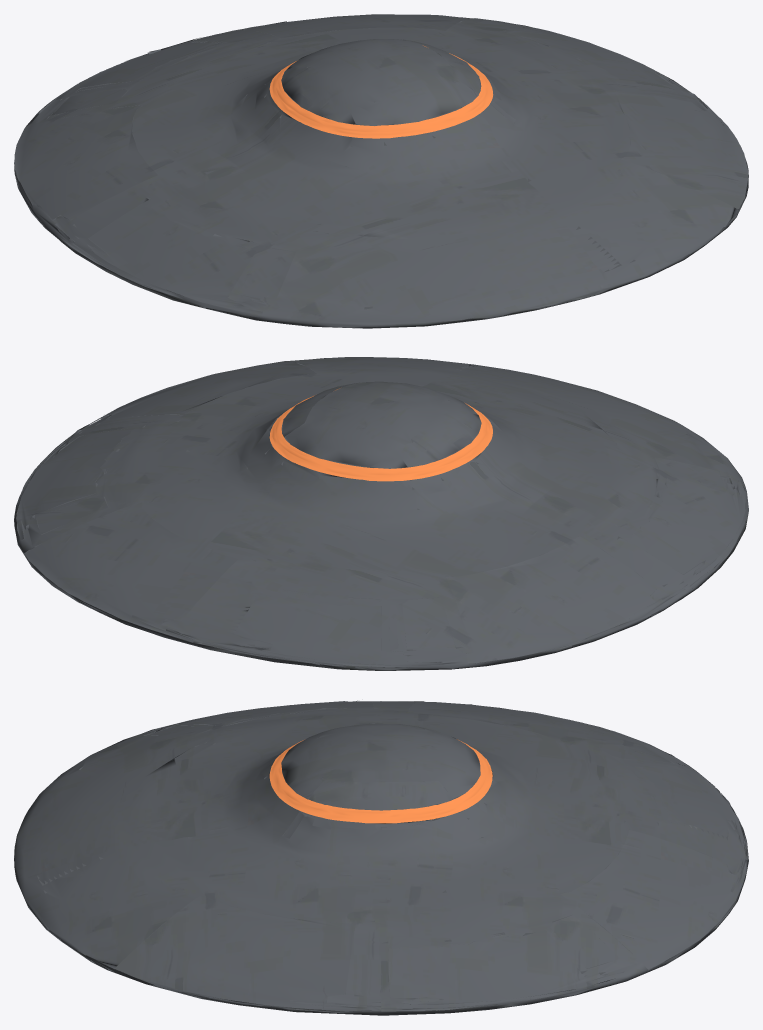
Rendered from ufo.glb.
3 renders of one model, top to bottom at view 1: azimuth 30°, elevation 25°; view 2: azimuth 150°, elevation 25°; view 3: azimuth 270°, elevation 25°, orthographic. The views are drawn at different scales.
Visible parts, largest first — view 1: UFO_UFO Metal_0.001, UFO_UFO Metal_0.002, UFO; view 2: UFO_UFO Metal_0.001, UFO_UFO Metal_0.002, UFO; view 3: UFO_UFO Metal_0.001, UFO_UFO Metal_0.002, UFO.
Part boxes in pixels (bbox=[...]): UFO_UFO Metal_0.001: bbox=[14, 17, 748, 328]; UFO_UFO Metal_0.002: bbox=[14, 14, 748, 314]; UFO: bbox=[47, 22, 718, 309]; UFO_UFO Metal_0.001: bbox=[14, 357, 748, 670]; UFO_UFO Metal_0.002: bbox=[16, 361, 745, 665]; UFO: bbox=[26, 365, 733, 661]; UFO_UFO Metal_0.001: bbox=[14, 701, 748, 1015]; UFO_UFO Metal_0.002: bbox=[14, 700, 747, 1012]; UFO: bbox=[37, 708, 745, 1010].
Size of the model in its own units: 9.38 by 2.5 by 9.38.
Materials: 3 (3 with a texture image).
